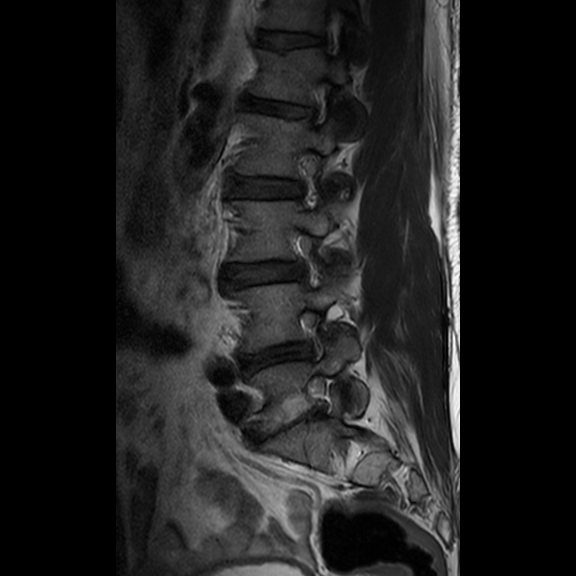LFS0: (282, 138, 327, 216)
LFS1: (290, 371, 345, 427)
LFS2: (278, 225, 330, 296), (292, 297, 337, 371)
